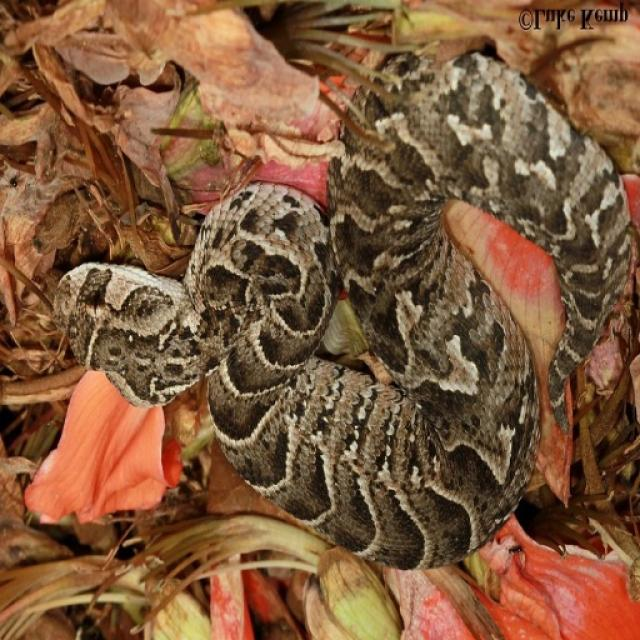snake: (41, 63, 640, 586)
